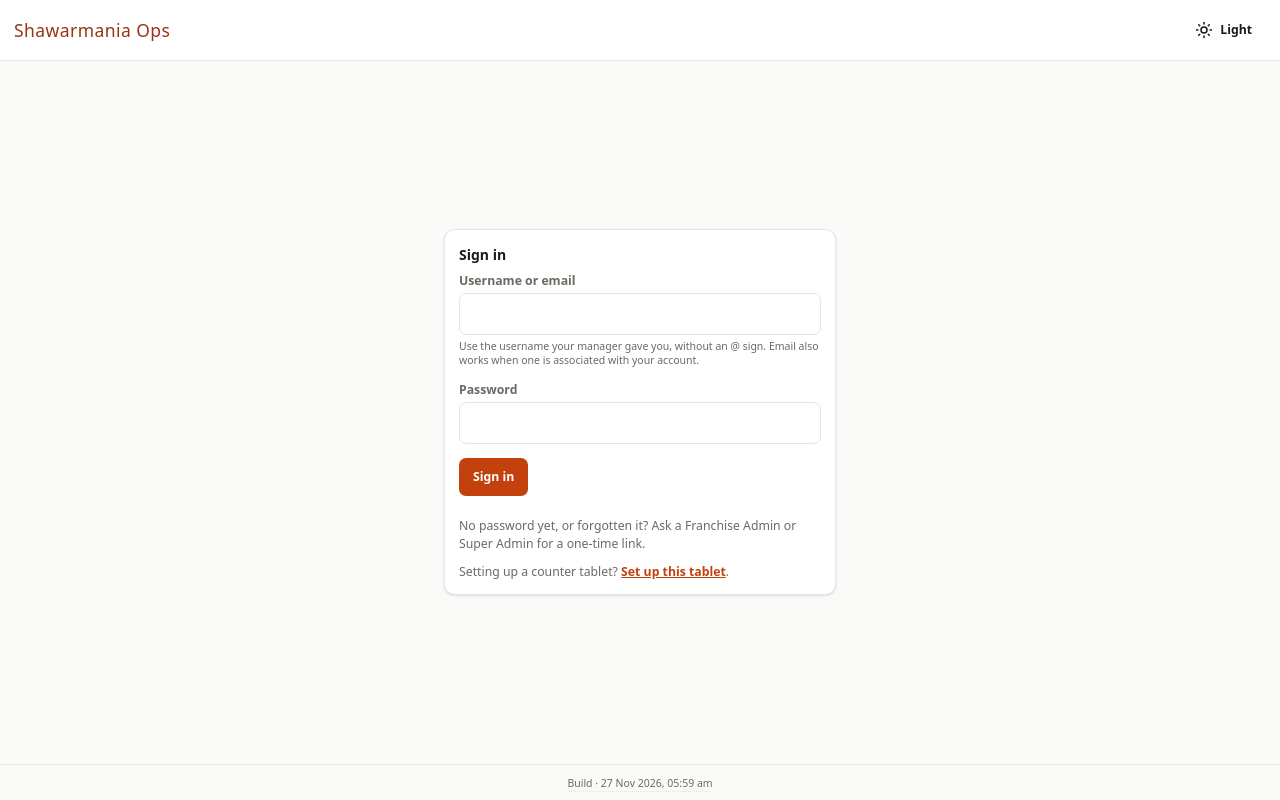
Test case: sign in › lets an unconfigured counter tablet reach setup without a typed URL
What coordinates should you click on to do the following:
click the link "Set up this tablet"
I would click on:
 (673, 571)
Its box is [621,563,726,580].
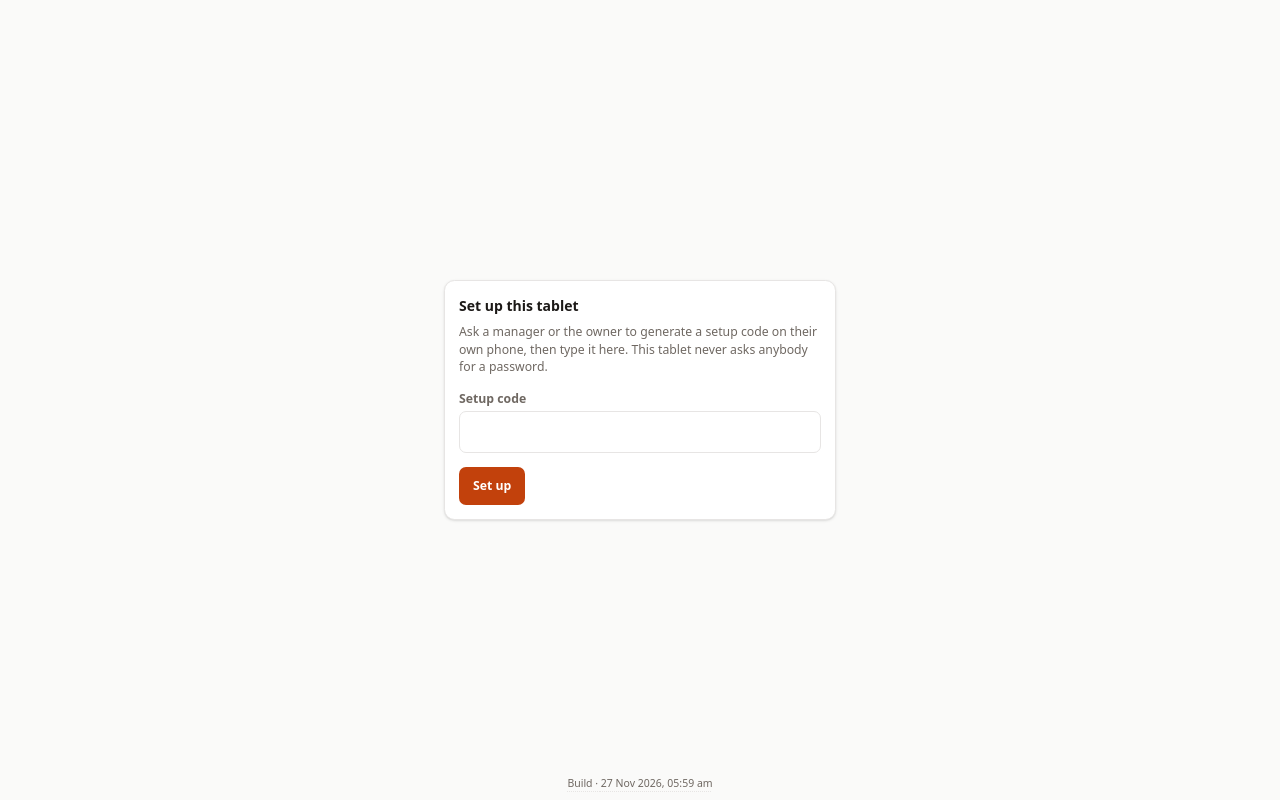
expect the heading "Set up this tablet" is shown: met, box [459,296,579,315]
expect the password field labelled "Password" is gone: met
